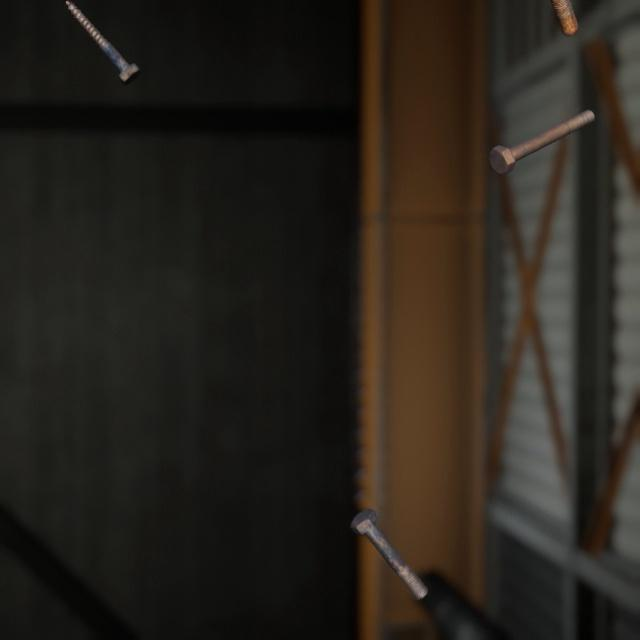bolt: (346, 482, 432, 582), (484, 92, 599, 166), (63, 0, 144, 80), (547, 0, 582, 35)
